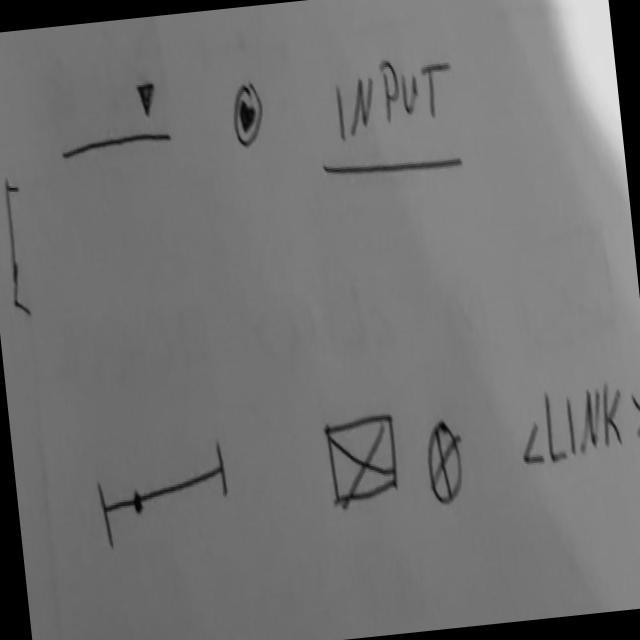icon-button: (227, 74, 269, 153)
image: (321, 408, 404, 511), (421, 416, 468, 510)
input: (310, 50, 466, 186)
link: (512, 369, 640, 470)
select: (51, 73, 176, 164)
slider: (90, 435, 234, 551)
